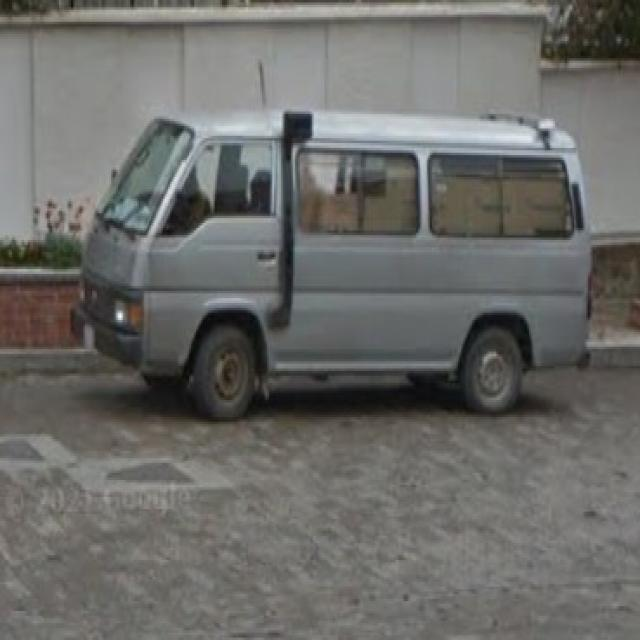Car: (82, 105, 604, 411)
